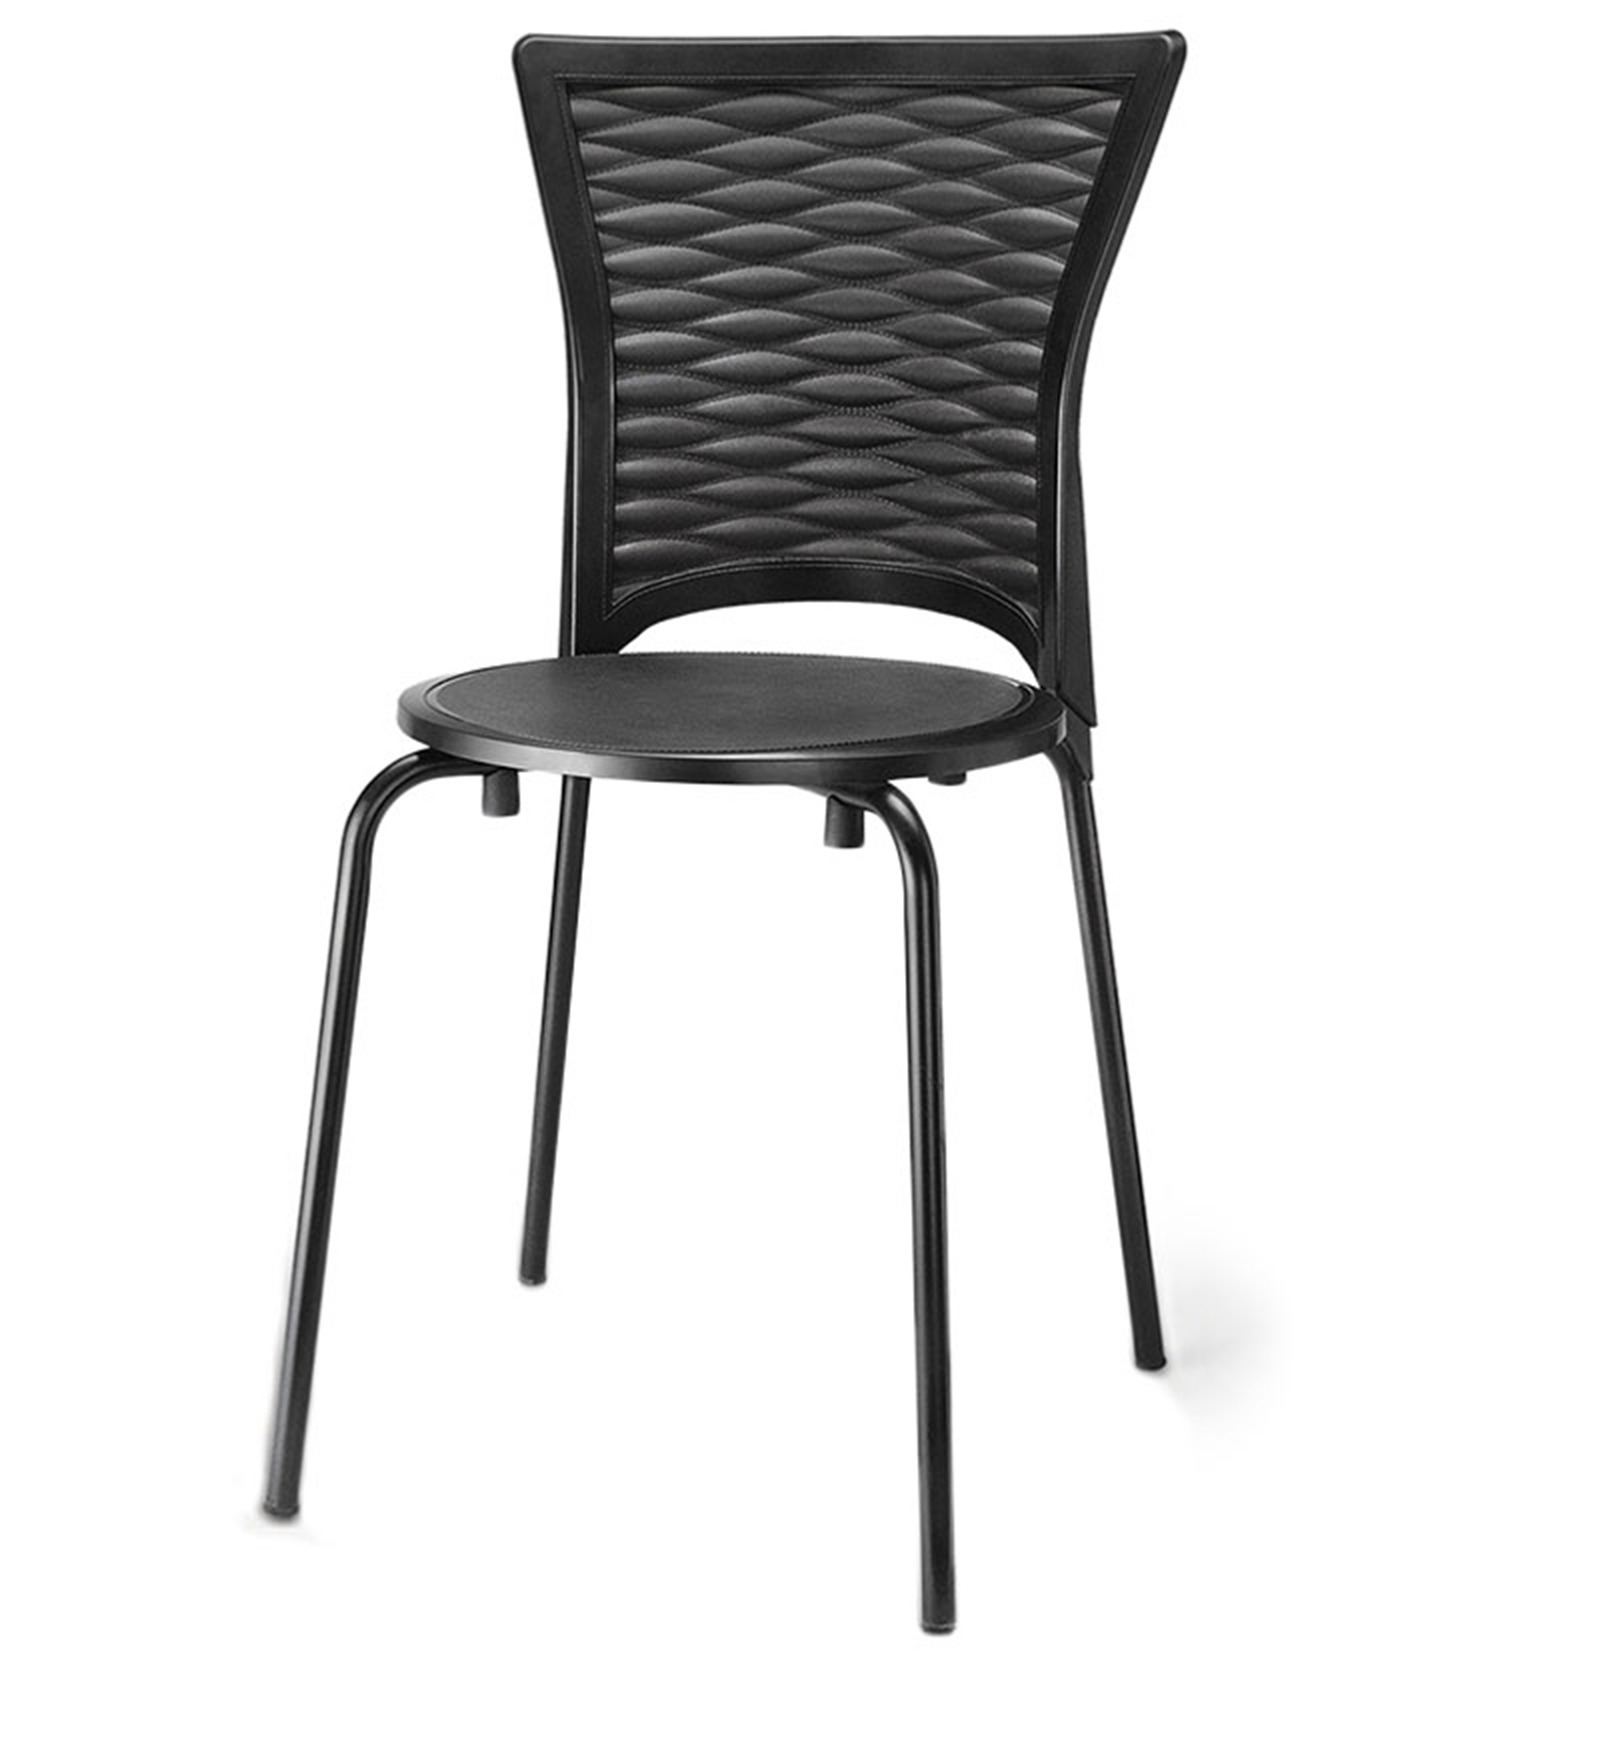Novella Plastic Chair in Black Colour by Nilkamal: (251, 18, 1203, 1643)
